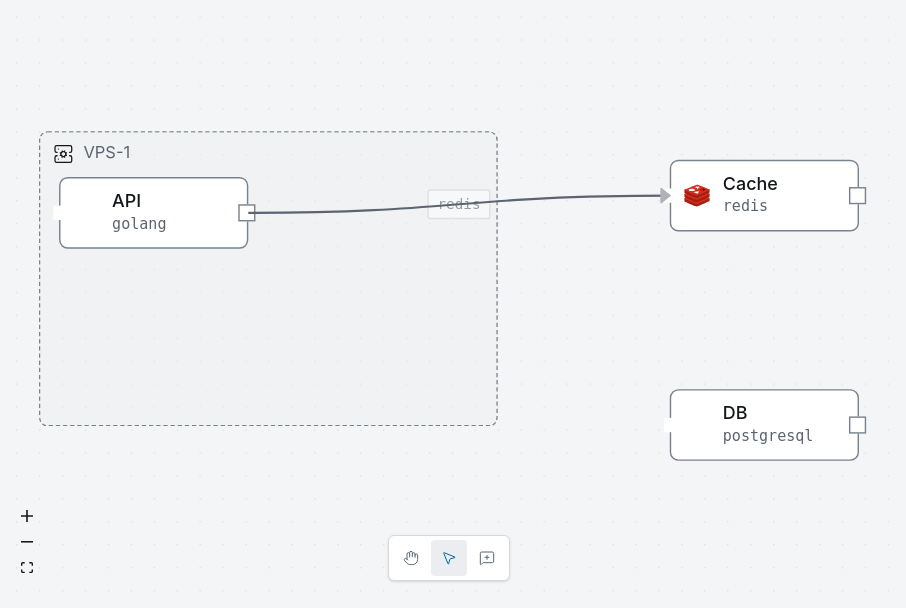
the floating toolbar on a selected System with a repository › is still there for someone who may only look, without the editing tools
This screenshot has width=906, height=608.
expect the element with class "react-flow__node" showing "Cache redis" is shown: met, box [670, 160, 859, 232]
Click the text "API" at (127, 201), box [112, 190, 141, 212]
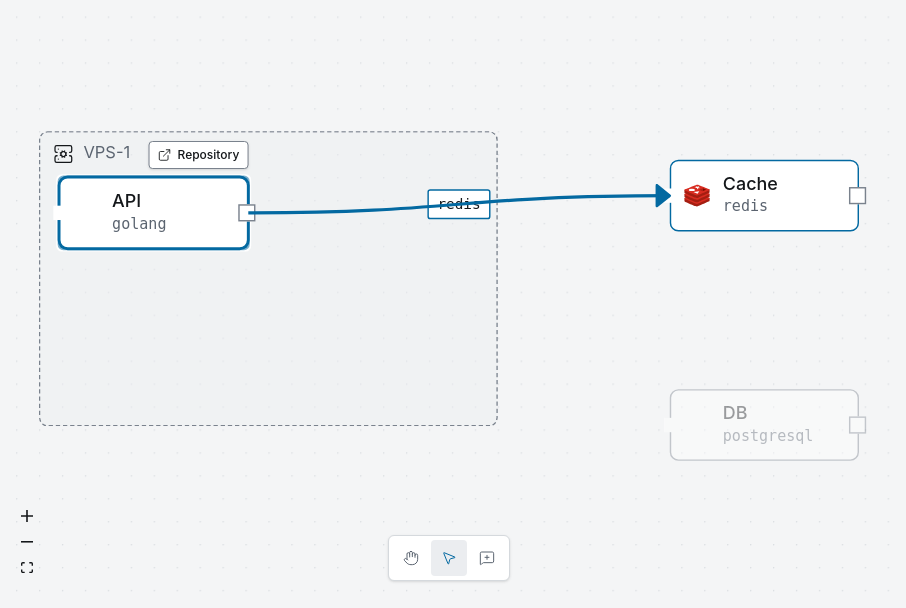
expect the button with aria-label "Open the repository of API" is shown: met, box [148, 141, 248, 169]
